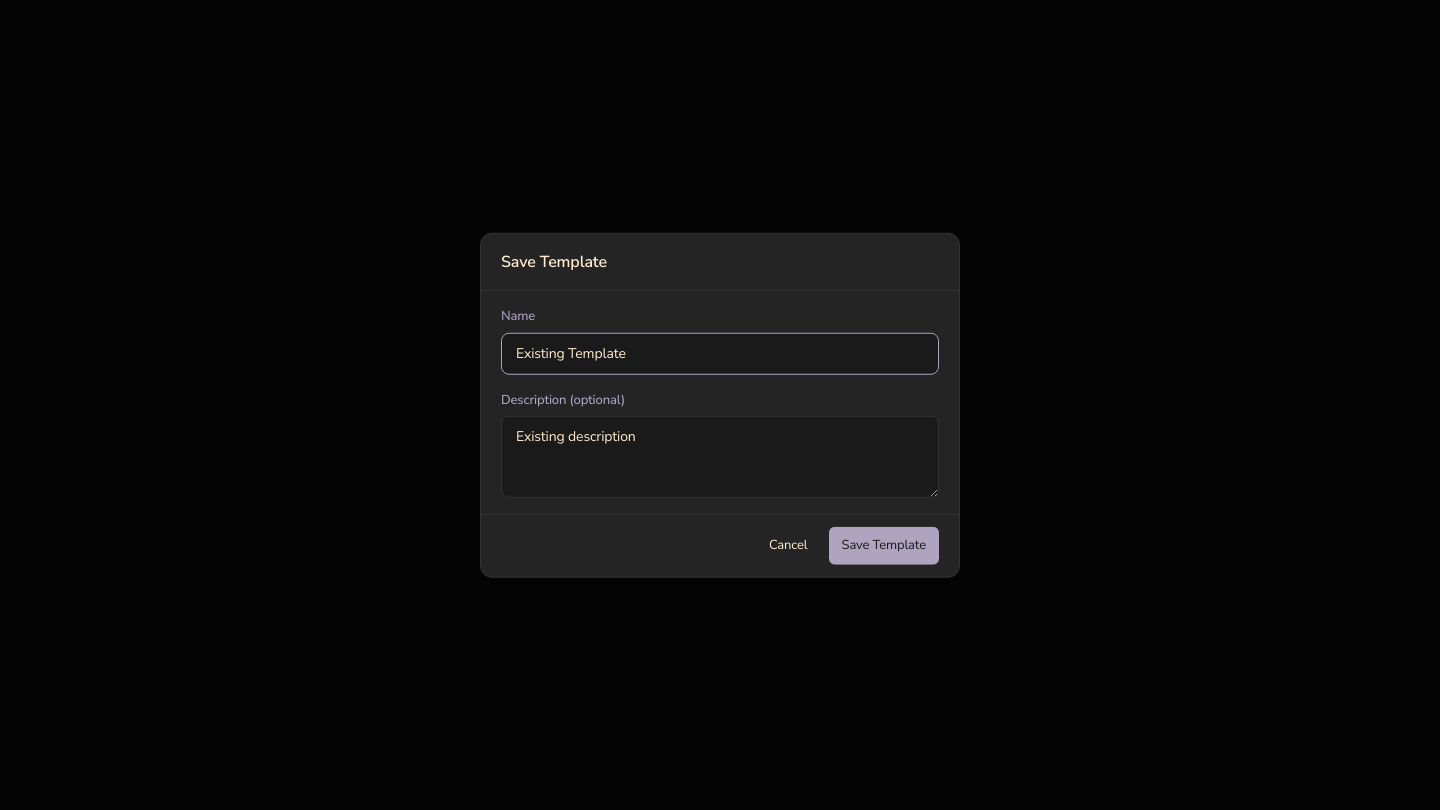
Test case: TemplateSaveDialog › form interactions › disables save when name is empty
Clear the field labelled "Name". click: {"x": 720, "y": 353}
box: [501, 332, 939, 374]
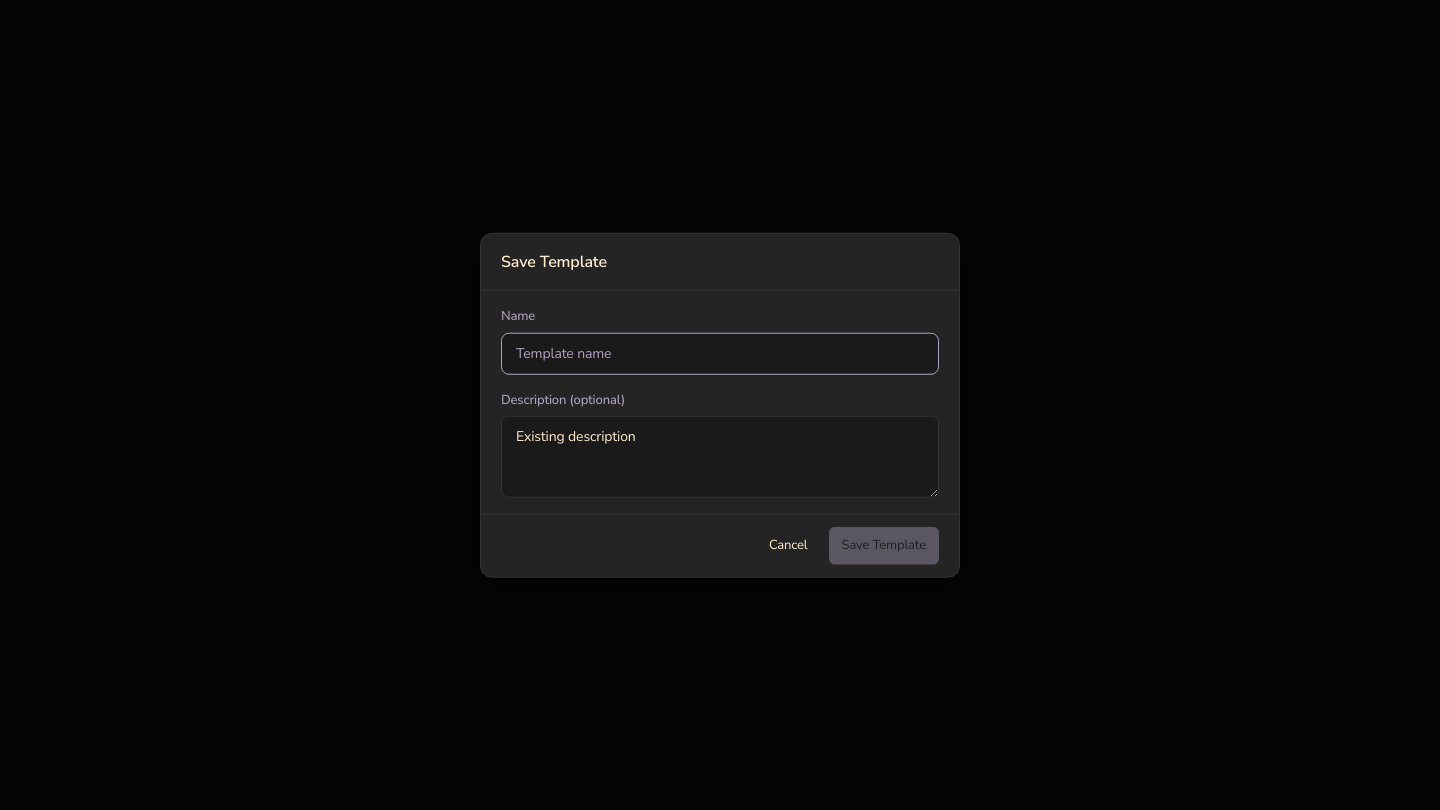
Expected: the button "Save Template" is disabled, [828, 527, 939, 564]
